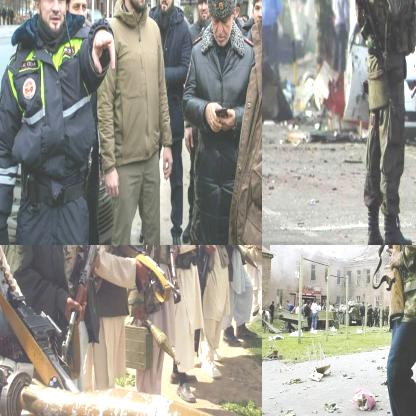rifle: (0, 353, 261, 415), (58, 245, 104, 362), (119, 245, 184, 301), (377, 245, 407, 323)
